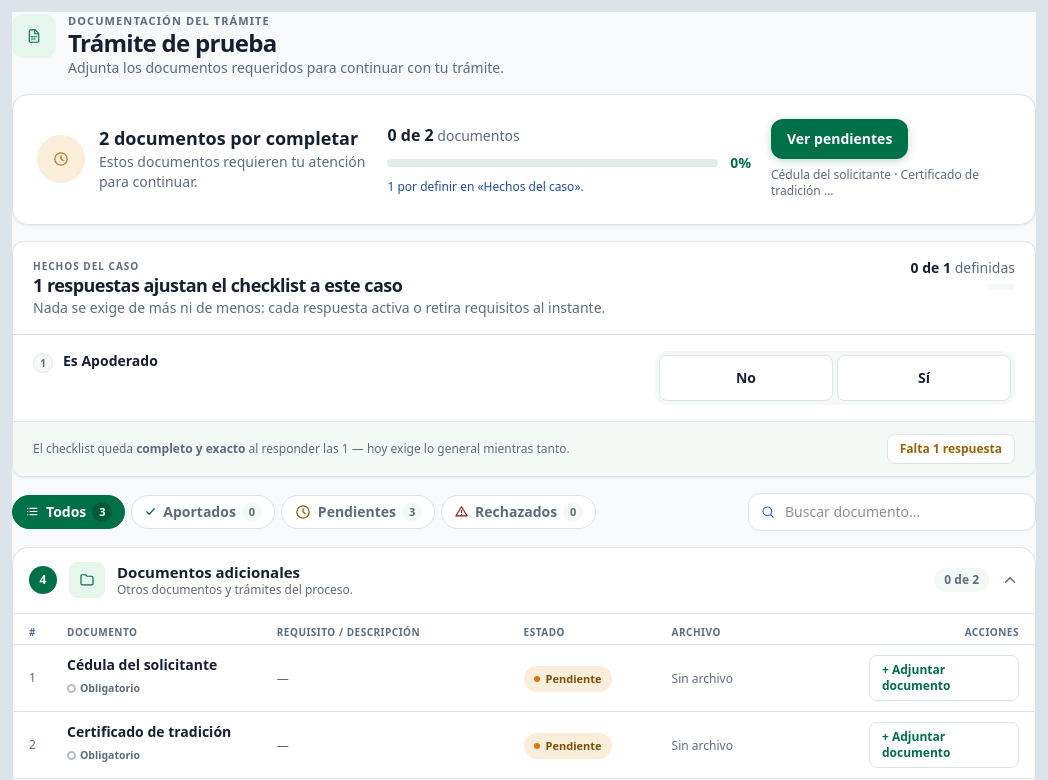
Test: Bloque A·A3 — ChecklistRequisitos reacciona EN VIVO a "Hechos del caso" › definir esApoderado=true reevalúa el condicional (de INDETERMINADO a PENDIENTE) y el resumen cambia
Expected: the text "Pendiente" is shown 2 times, x1=524 y1=666 x2=612 y2=692; x1=524 y1=733 x2=612 y2=759
Note: El funcionario marca "hay apoderado":
Step 1. Click the button "Sí" → (924, 378), box x1=837 y1=355 x2=1011 y2=401
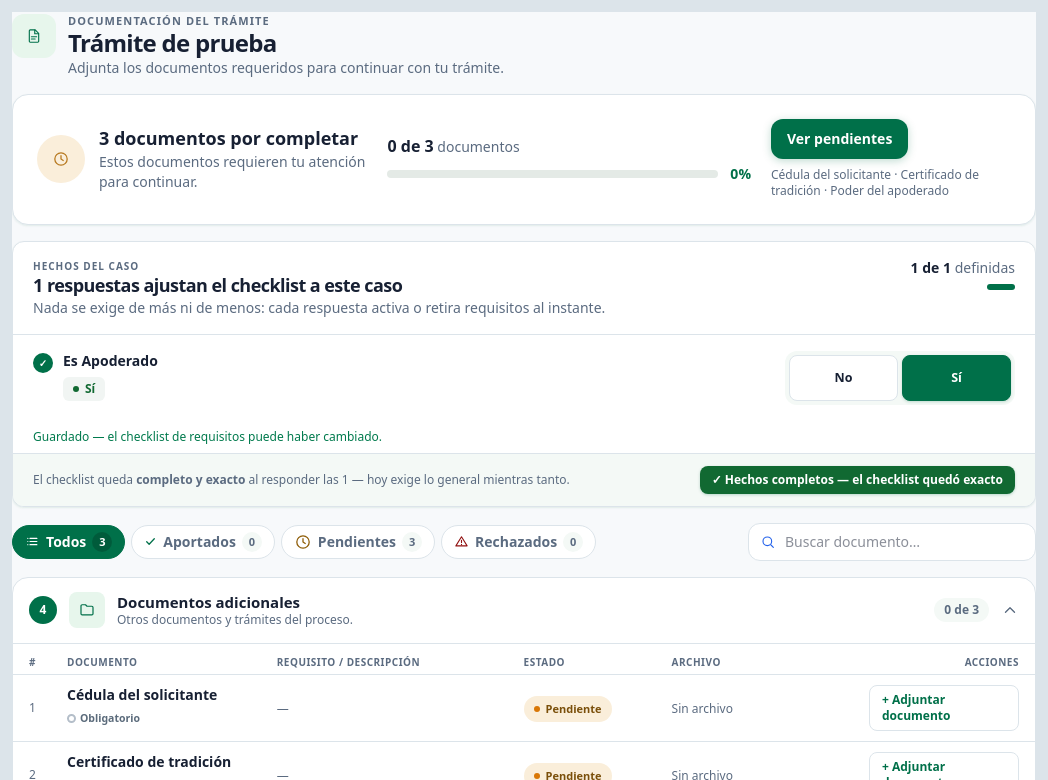
Now the text "Pendiente" is shown 3 times
